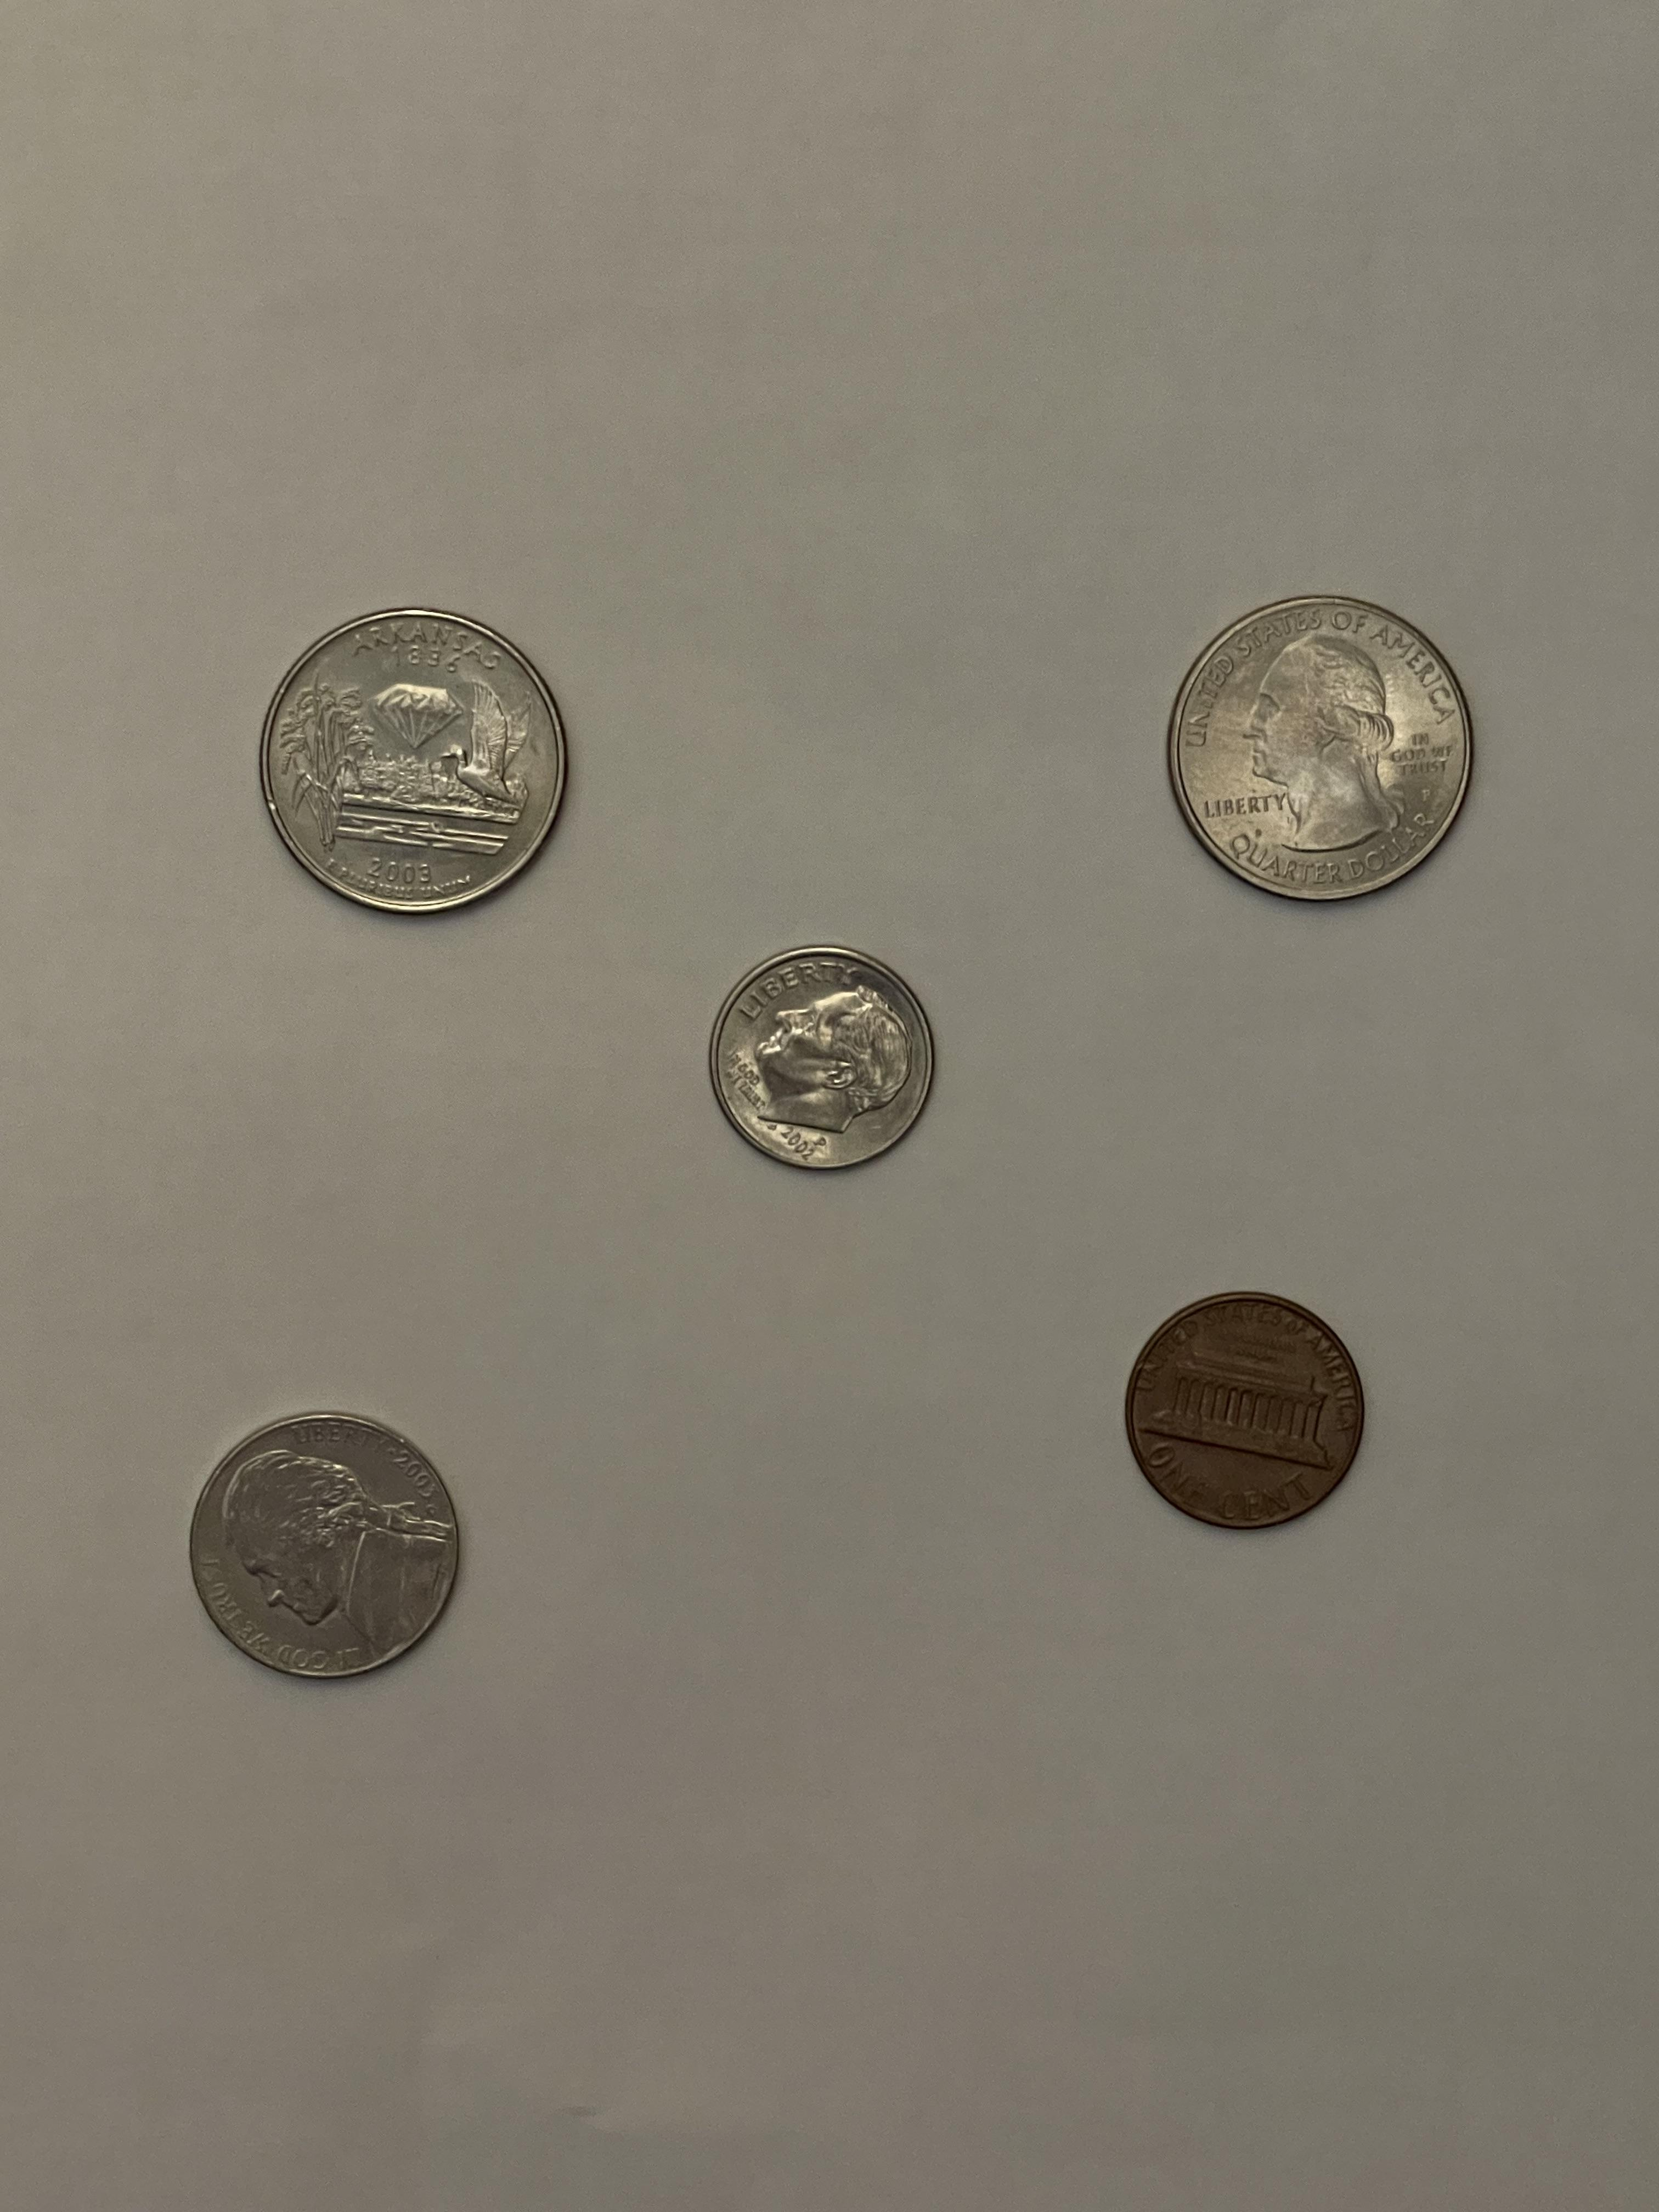Dime: (708, 944, 934, 1170)
Nickel: (188, 1411, 460, 1683)
Penny: (1124, 1291, 1366, 1529)
Quarter: (260, 604, 570, 916), (1168, 594, 1474, 902)
